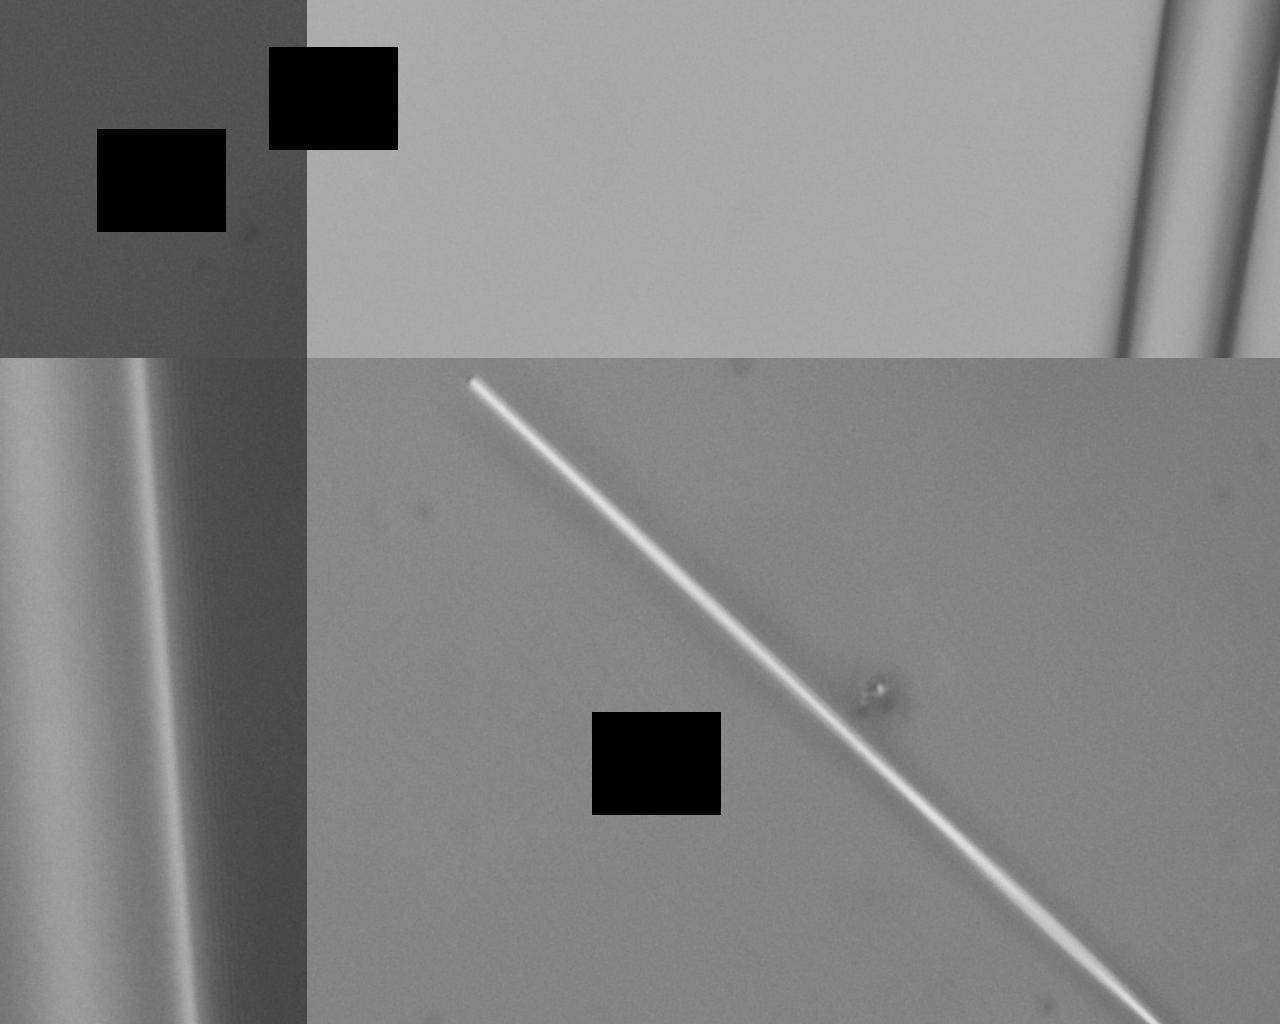fiber: (127, 479, 1151, 543)
